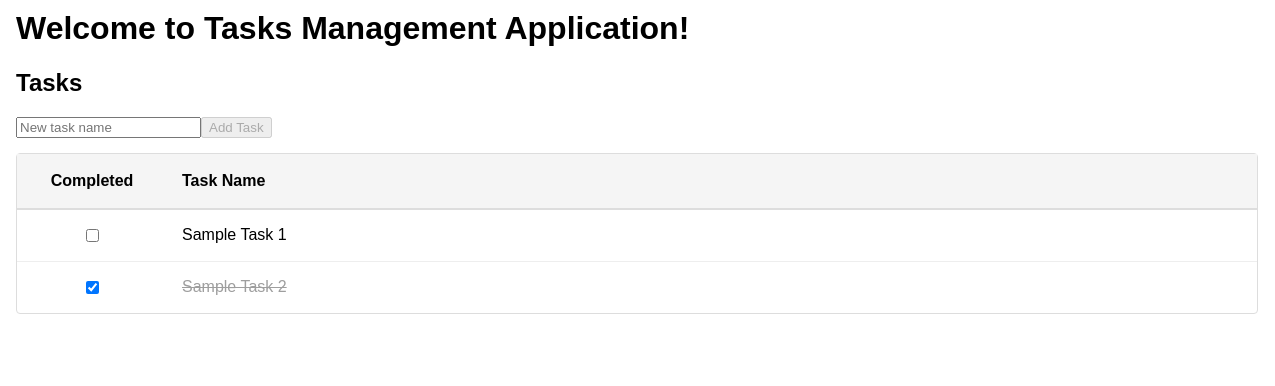
API Integration Tests › should allow dismissing error messages
Step 1. Type "Error Task" into the field with placeholder "New task name" → x=109, y=128, box [16,117,201,138]
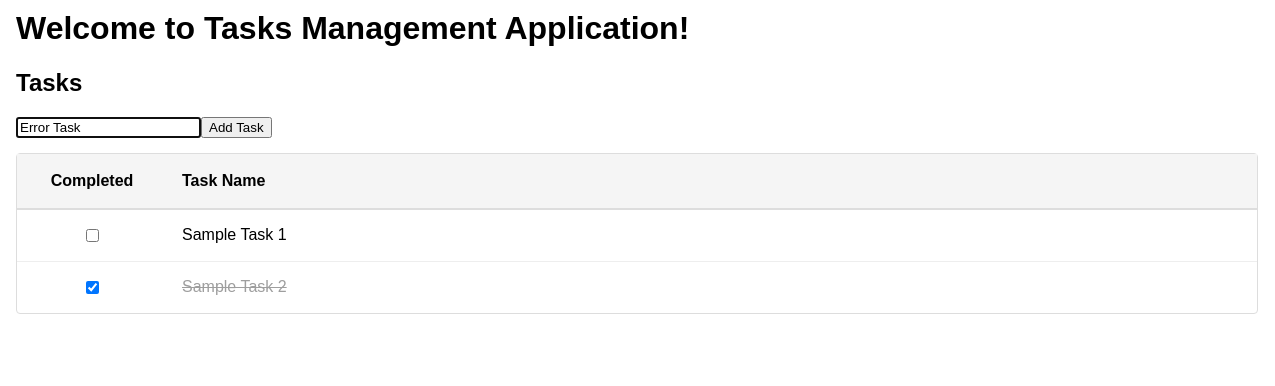
Step 2. Click the button "Add Task" → x=237, y=128, box [201,117,272,138]
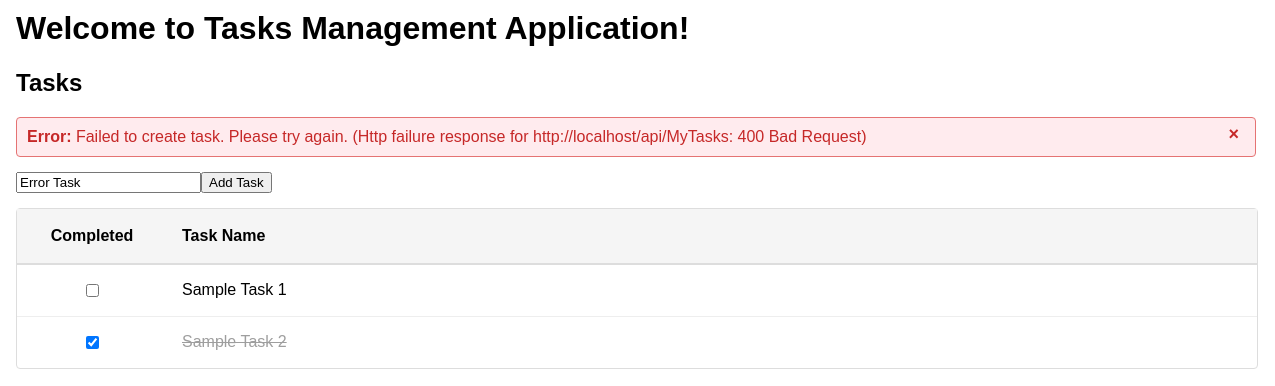
Dismiss the error
Step 3. Click the button "×" → x=1235, y=135, box [1223,123,1246,146]
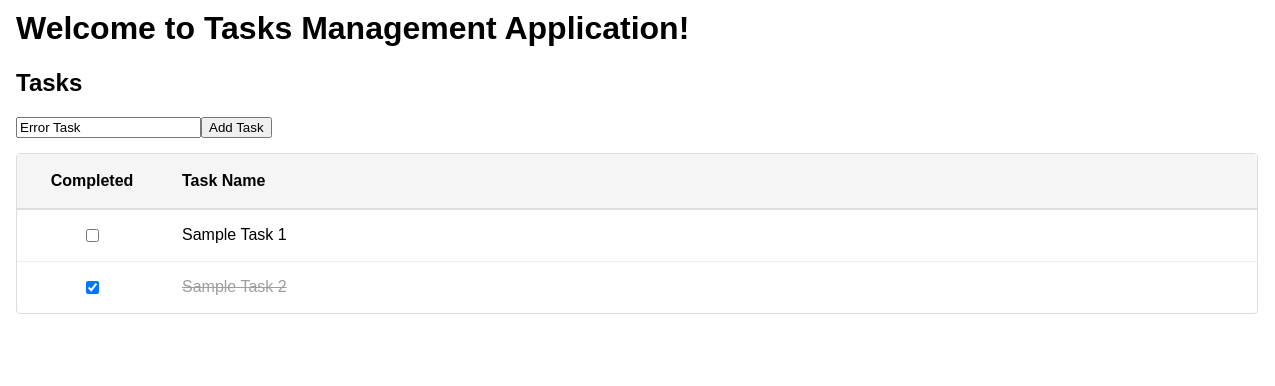
expect the element with class "error-message" is gone: met
